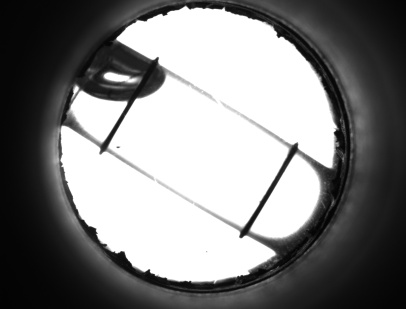line: (244, 164, 291, 221), (104, 104, 135, 140)
